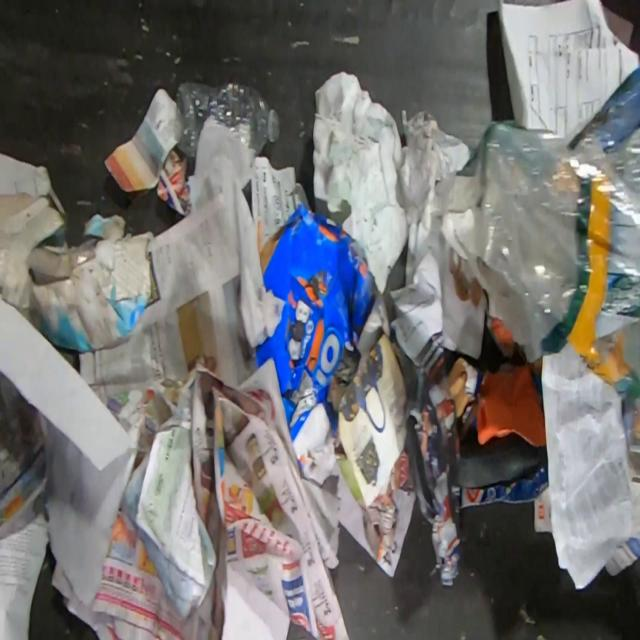cardboard: (255, 201, 380, 444), (28, 212, 154, 352)
rigid_plastic: (172, 81, 280, 158)
soft_plastic: (468, 67, 640, 401)
